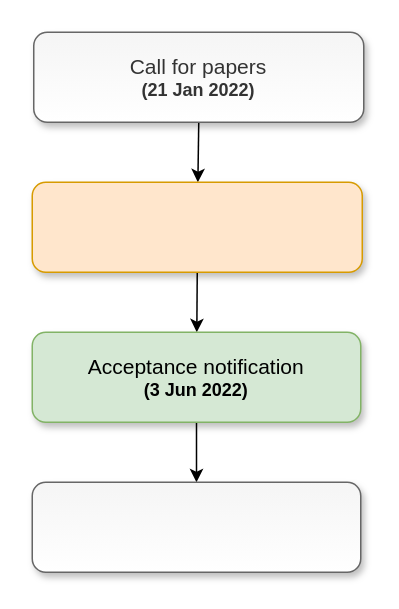
Some shapes in this 399 by 609 pixel diagram are drawn without their labels. The shapes that lost their labels are listed below. From the top down, each one's centre as x and y in pixels, then its label:
At (198,229): "Submit full paper (29 Apr 2022)".
At (197,529): "Final paper submission & registration (1 Jul 2022)".
